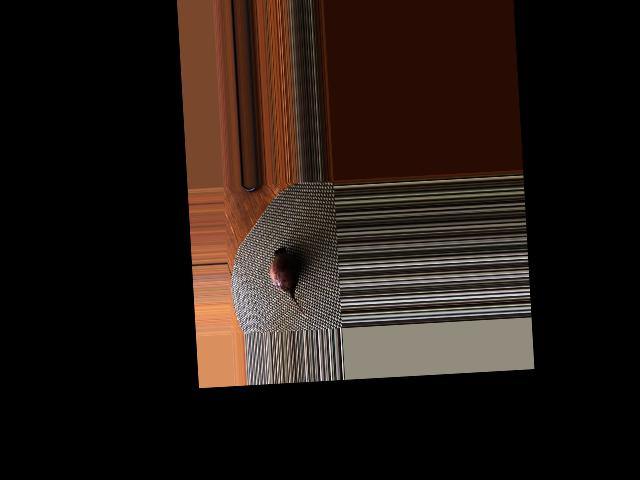beet: (268, 245, 308, 319)
